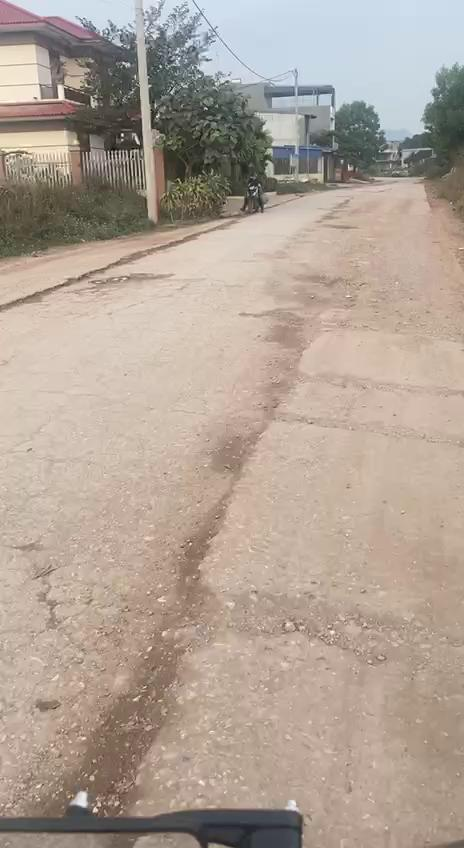pothole: (53, 576, 214, 848), (221, 580, 420, 670)
